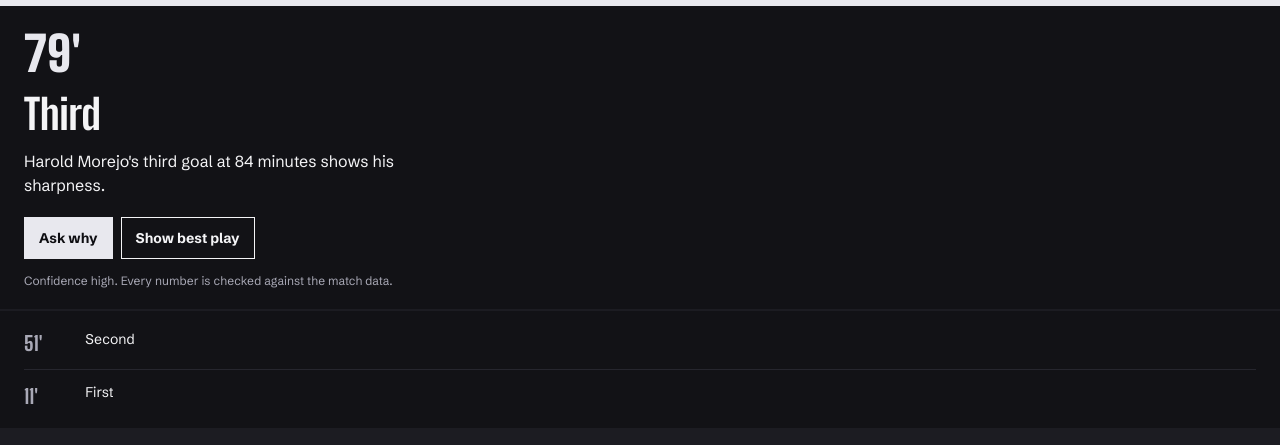
Scenario: InsightPanel › puts the newest on top and lists the earlier ones; an earlier one can come back to the top
The image size is (1280, 445).
Check: the heading reads "Third", box [24, 89, 101, 139]
What coordinates should you click on to do the following:
click the button "11' First"
I would click on:
 (31, 396)
Its box is [24, 370, 1256, 422].
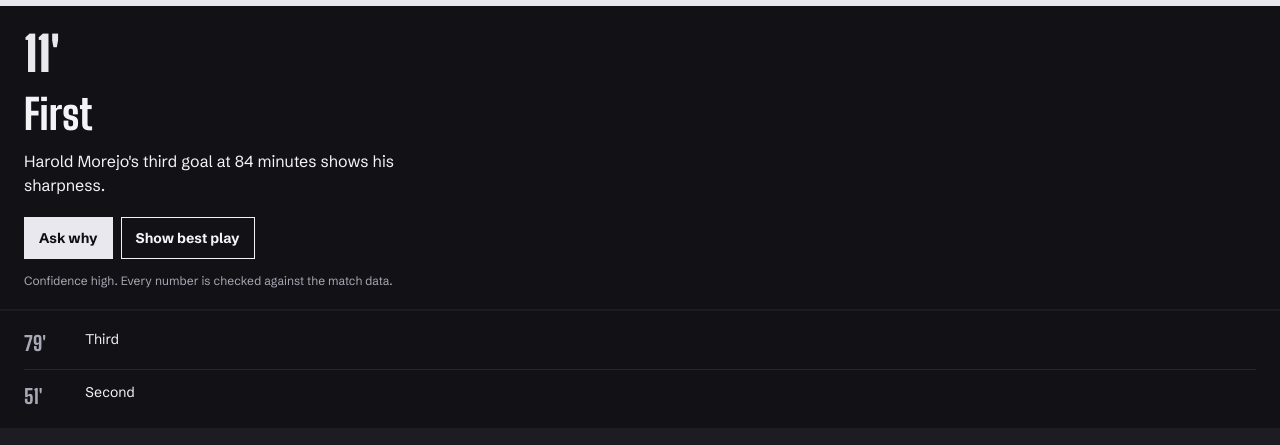
Check: the heading reads "First", box [24, 89, 93, 139]
